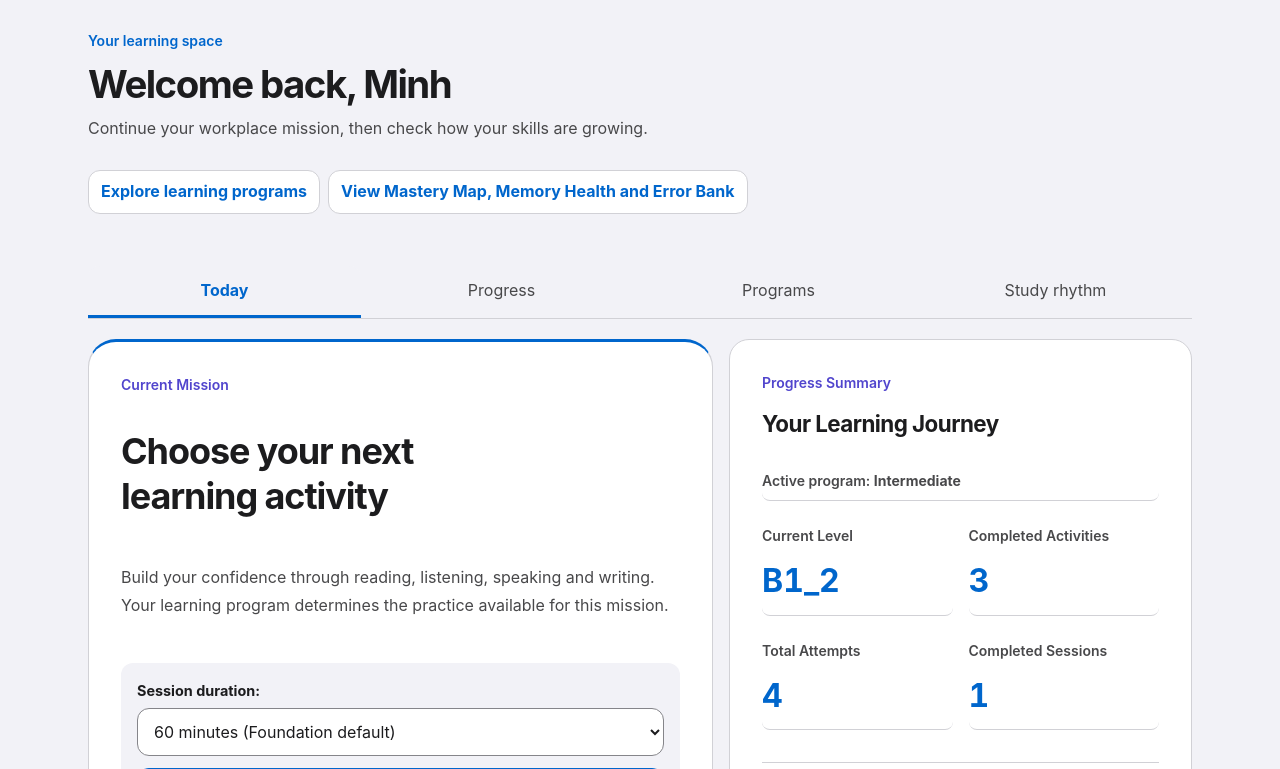
Test: DashboardView › personalizes the greeting and shows independent stored program completion
Expected: the heading "Welcome back, Minh" is shown, [88,61,451,107]
Click the tab "Programs". click: x=778, y=292
box: [642,266,915,318]
(page scrolled)
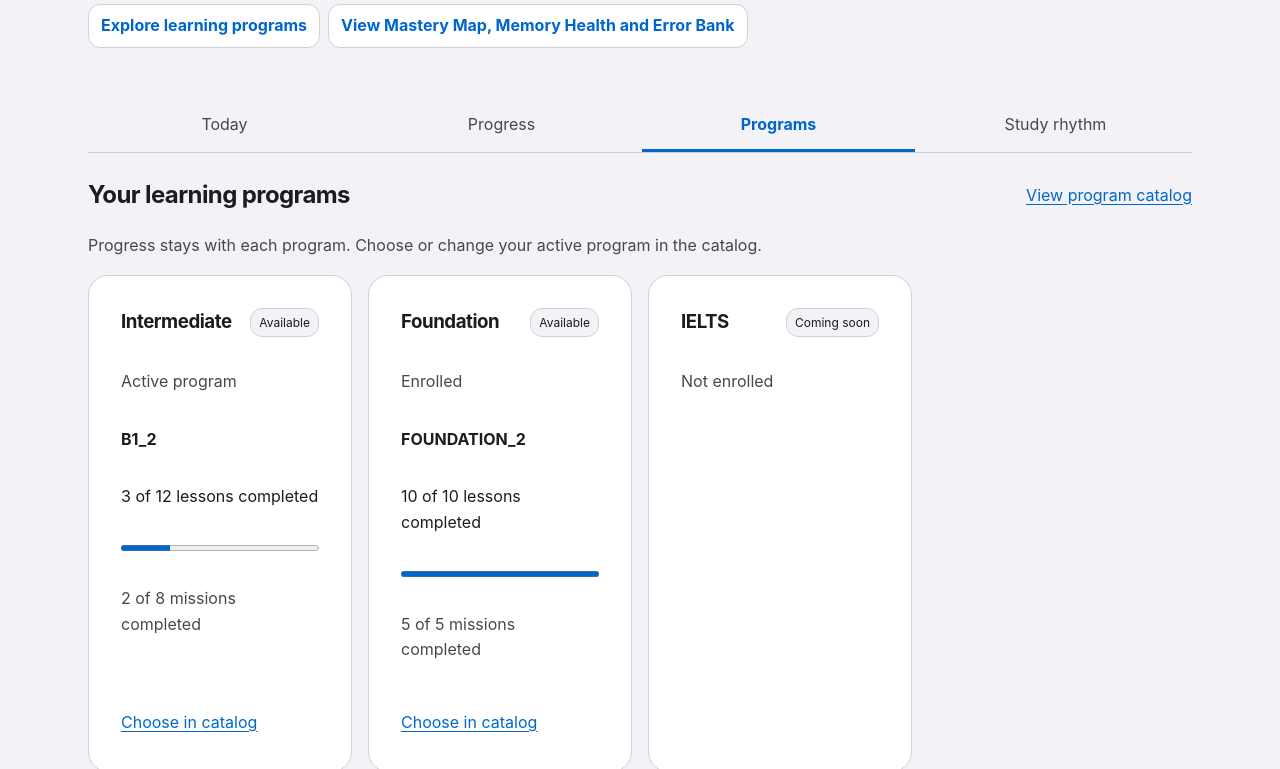
Expected: the text "3 of 12 lessons completed" is shown, [121,484,318,510]
Expected: the text "10 of 10 lessons completed" is shown, [401,486,521,532]
Expected: the text "Coming soon" is shown, [786,308,879,337]
